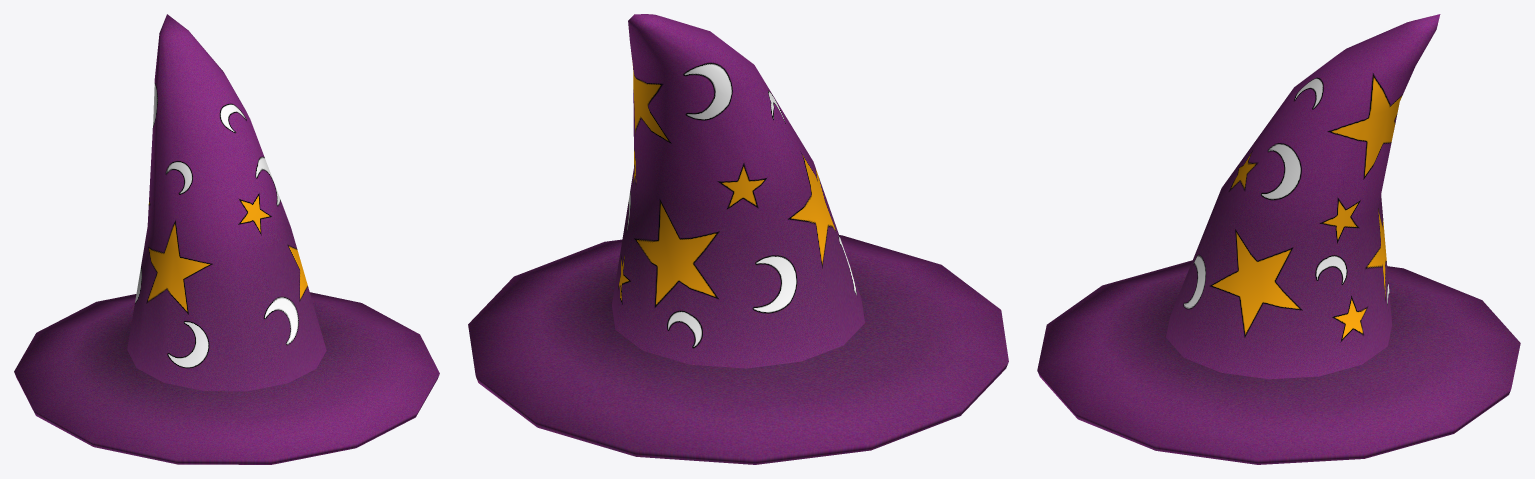
File: WizardHat_WorldItem.fbx
3 views of the same model, side by side, from view 1: azimuth 30°, elevation 25°; view 2: azimuth 150°, elevation 25°; view 3: azimuth 270°, elevation 25° (orthographic). The views are drawn at different scales.
Visible parts, largest first — view 1: Circle_Circle.001; view 2: Circle_Circle.001; view 3: Circle_Circle.001.
Part boxes in pixels (x1,y1,x2,y2): Circle_Circle.001: [14, 14, 439, 464]; Circle_Circle.001: [468, 14, 1008, 464]; Circle_Circle.001: [1037, 14, 1520, 464].
Bounding box in the file's own units: 0.6548 × 0.5284 × 0.6511.
